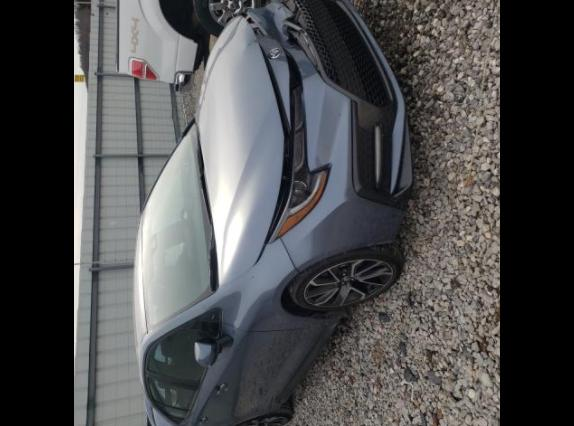Broken part: (242, 0, 411, 274), (236, 9, 293, 269), (284, 0, 385, 105)
Dent: (242, 15, 263, 54)
